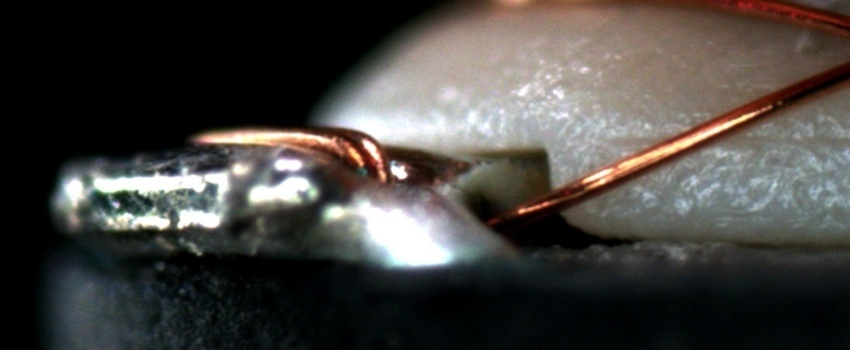DL: (611, 109, 849, 170)
TE: (186, 119, 394, 187)
